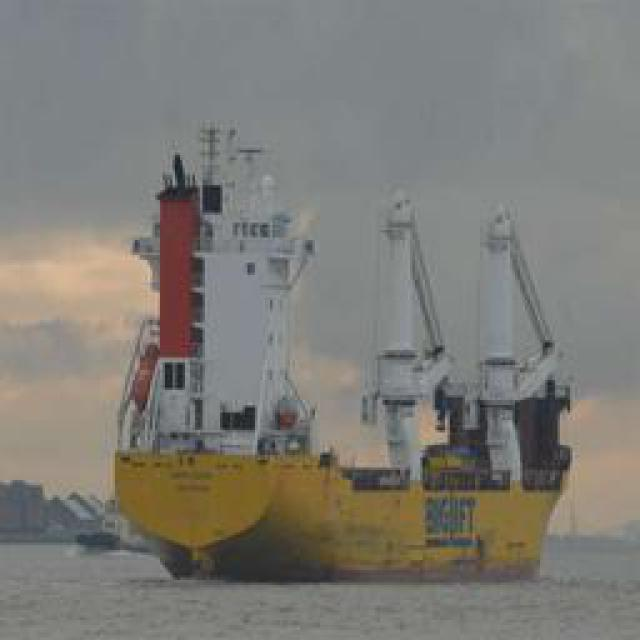Ship: (109, 157, 582, 594)
